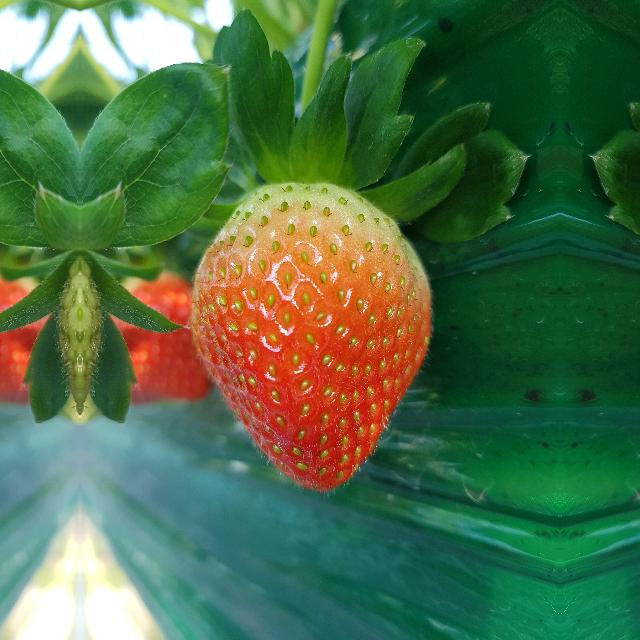Health_75: (190, 182, 432, 492)
